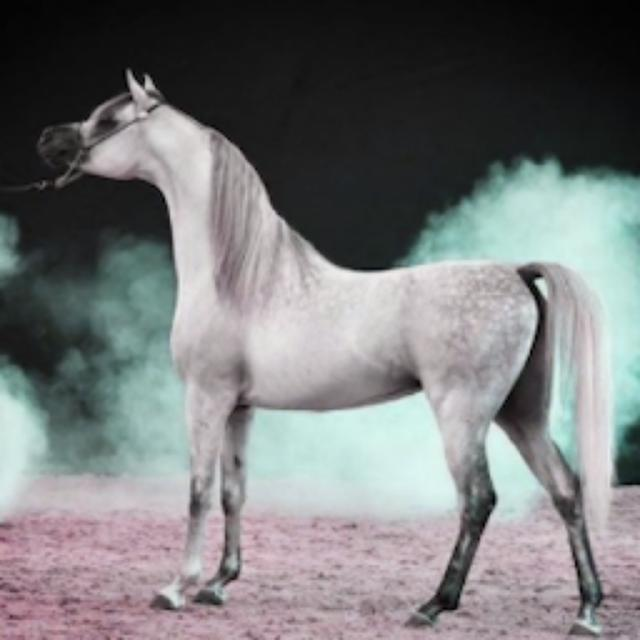Horse: (32, 62, 628, 638)
